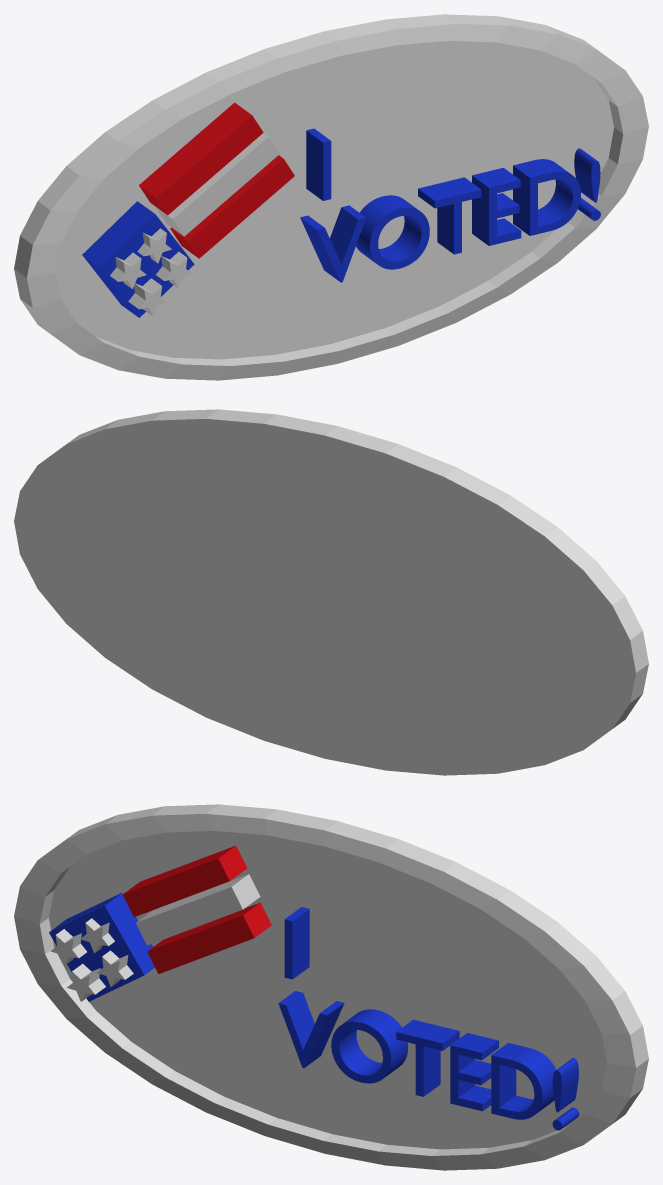
File: ivoted.dae
The picture shows the model from 3 angles, top to bottom: view 1: azimuth 30°, elevation 25°; view 2: azimuth 150°, elevation 25°; view 3: azimuth 330°, elevation 25°; orthographic projection.
Parts seen in each view (by area): view 1: Cylinder_004; view 2: Cylinder_004; view 3: Cylinder_004.
Part boxes in pixels (x1,y1,x2,y2): Cylinder_004: [14, 14, 648, 380]; Cylinder_004: [14, 409, 648, 775]; Cylinder_004: [14, 804, 648, 1170].
Bounding box in the file's own units: 7.62 × 0.9045 × 3.78.
